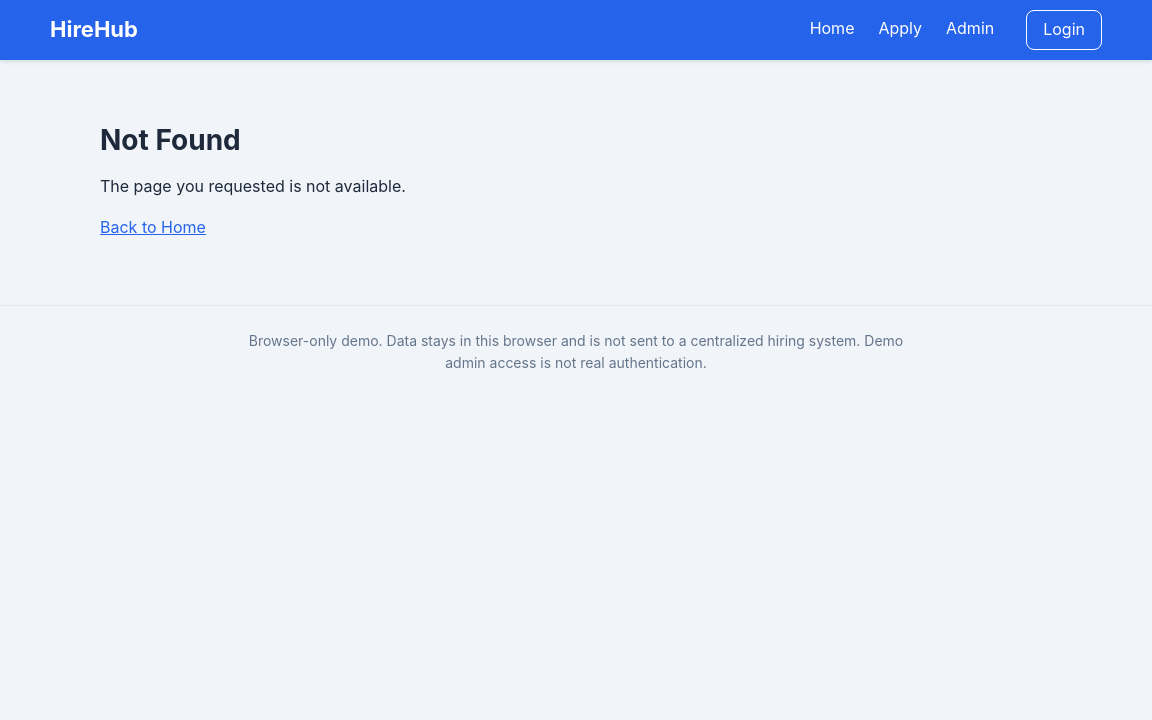
App › returns Home from the unknown-route fallback
This screenshot has width=1152, height=720.
Click the link "Back to Home" at [153, 227], box x1=100 y1=217 x2=206 y2=237
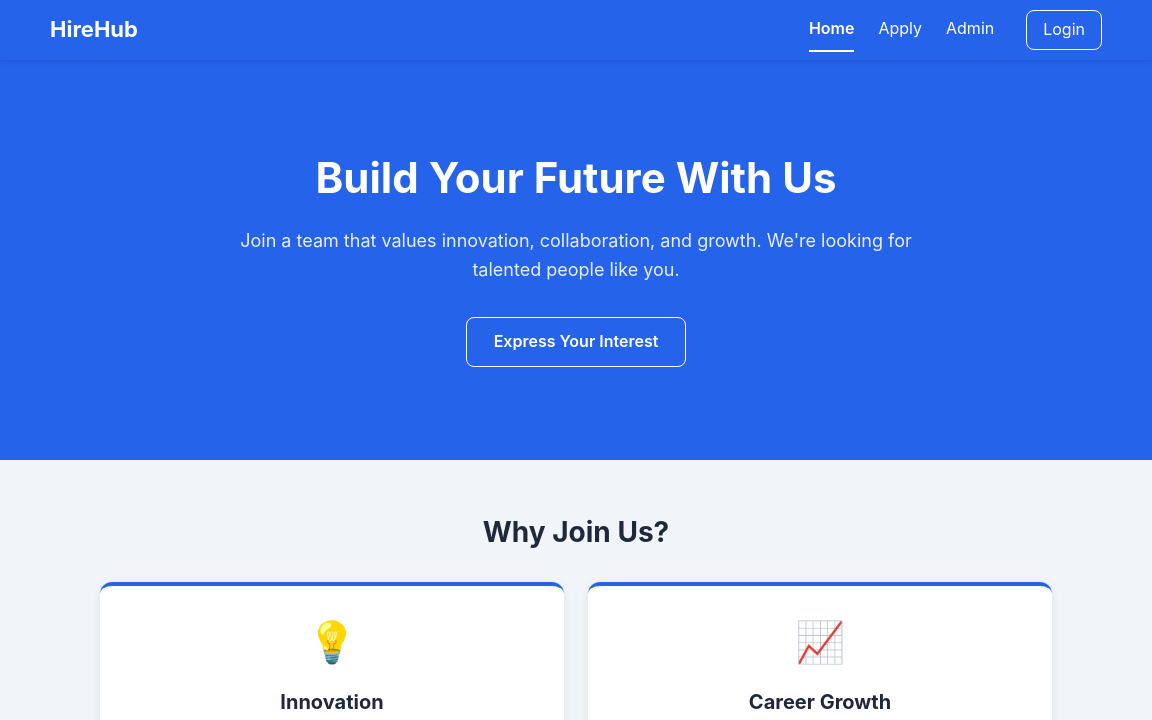
Check: the heading "Build Your Future With Us" is shown, box x1=316 y1=152 x2=836 y2=203
